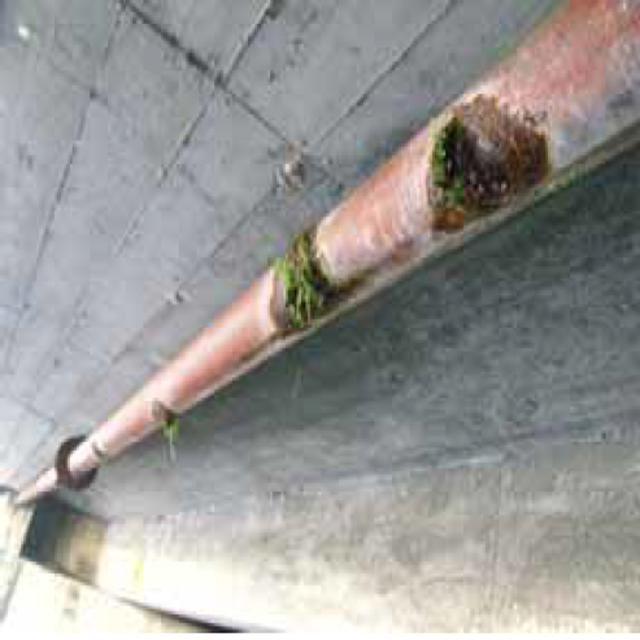corrosion: (424, 94, 550, 250)
